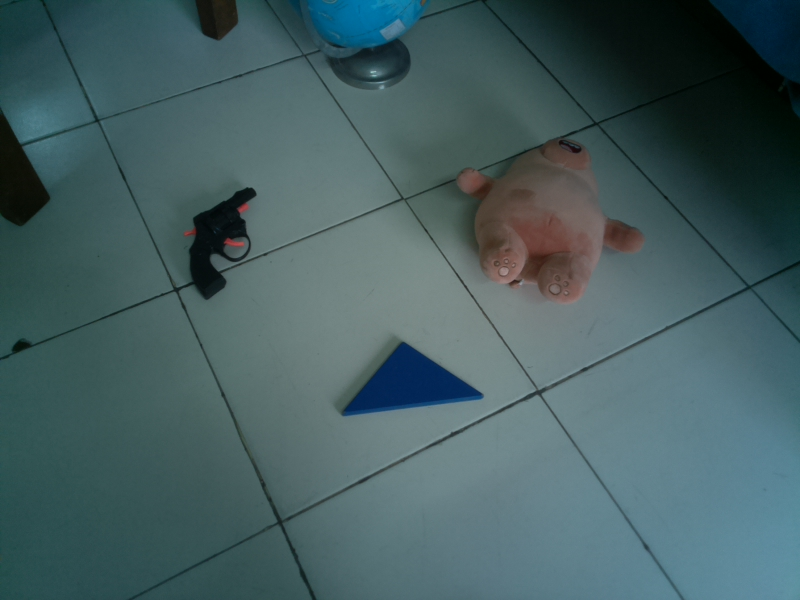Gun: (183, 186, 263, 301)
Triangle: (337, 334, 488, 421)
